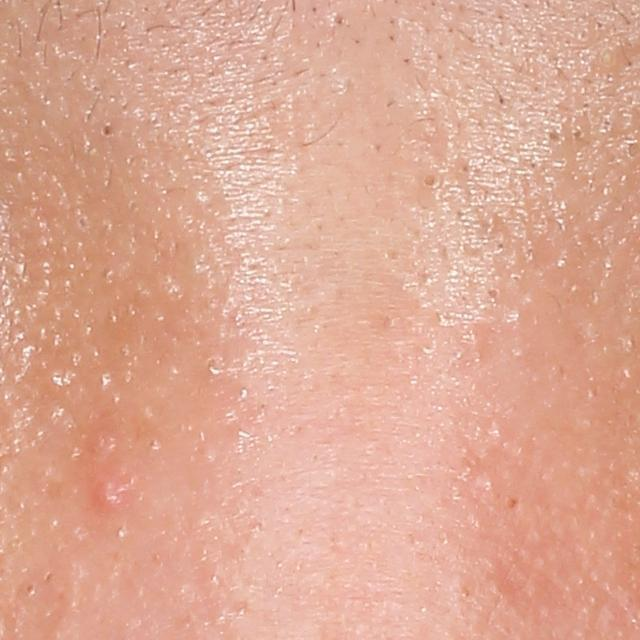comedo: (96, 119, 117, 143), (20, 577, 39, 600), (421, 171, 441, 190)
papule: (92, 480, 121, 514)
